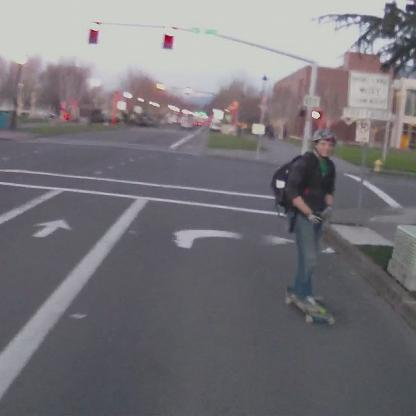backpack: (268, 153, 301, 212)
